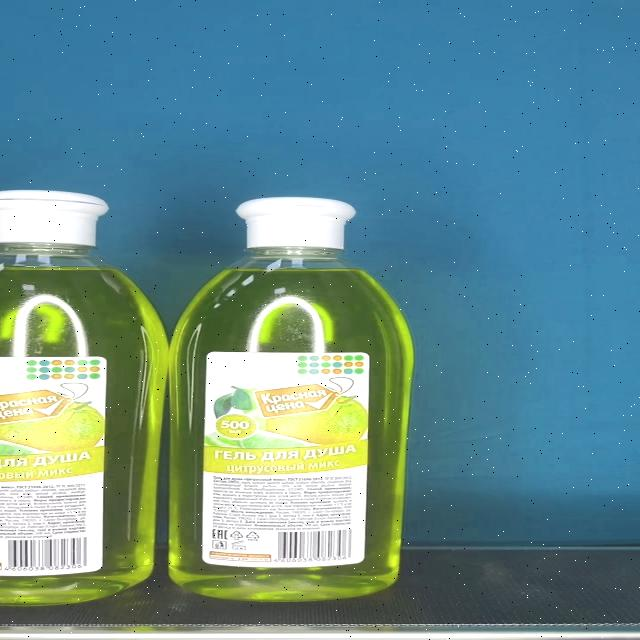Bottle: (166, 198, 416, 602)
Cap: (238, 198, 359, 251)
